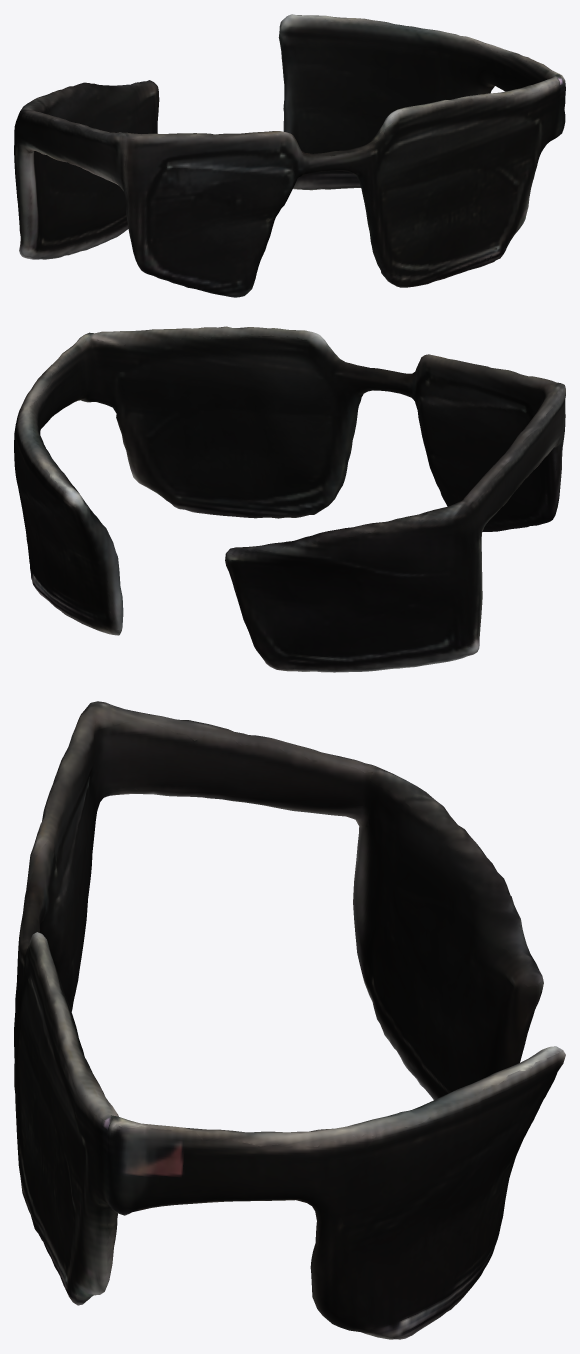
The model's file is gafasx4.glb.
3 renders of one model, top to bottom at view 1: azimuth 30°, elevation 25°; view 2: azimuth 150°, elevation 25°; view 3: azimuth 270°, elevation 25°, orthographic. The views are drawn at different scales.
Parts seen in each view (by area): view 1: mesh; view 2: mesh; view 3: mesh.
Part boxes in pixels (bbox=[...]): mesh: bbox=[14, 14, 565, 297]; mesh: bbox=[14, 326, 565, 672]; mesh: bbox=[14, 701, 565, 1339].
Size of the model in its own units: 1.73 by 0.7888 by 1.15.
Materials: 1 (1 with a texture image).
